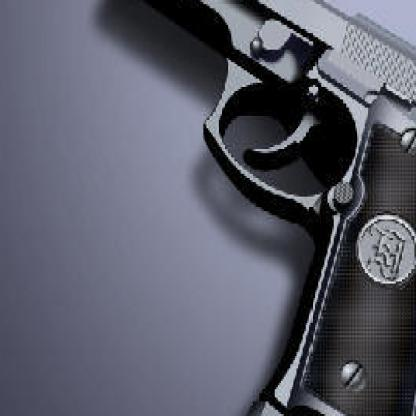gun: (87, 0, 414, 414)
